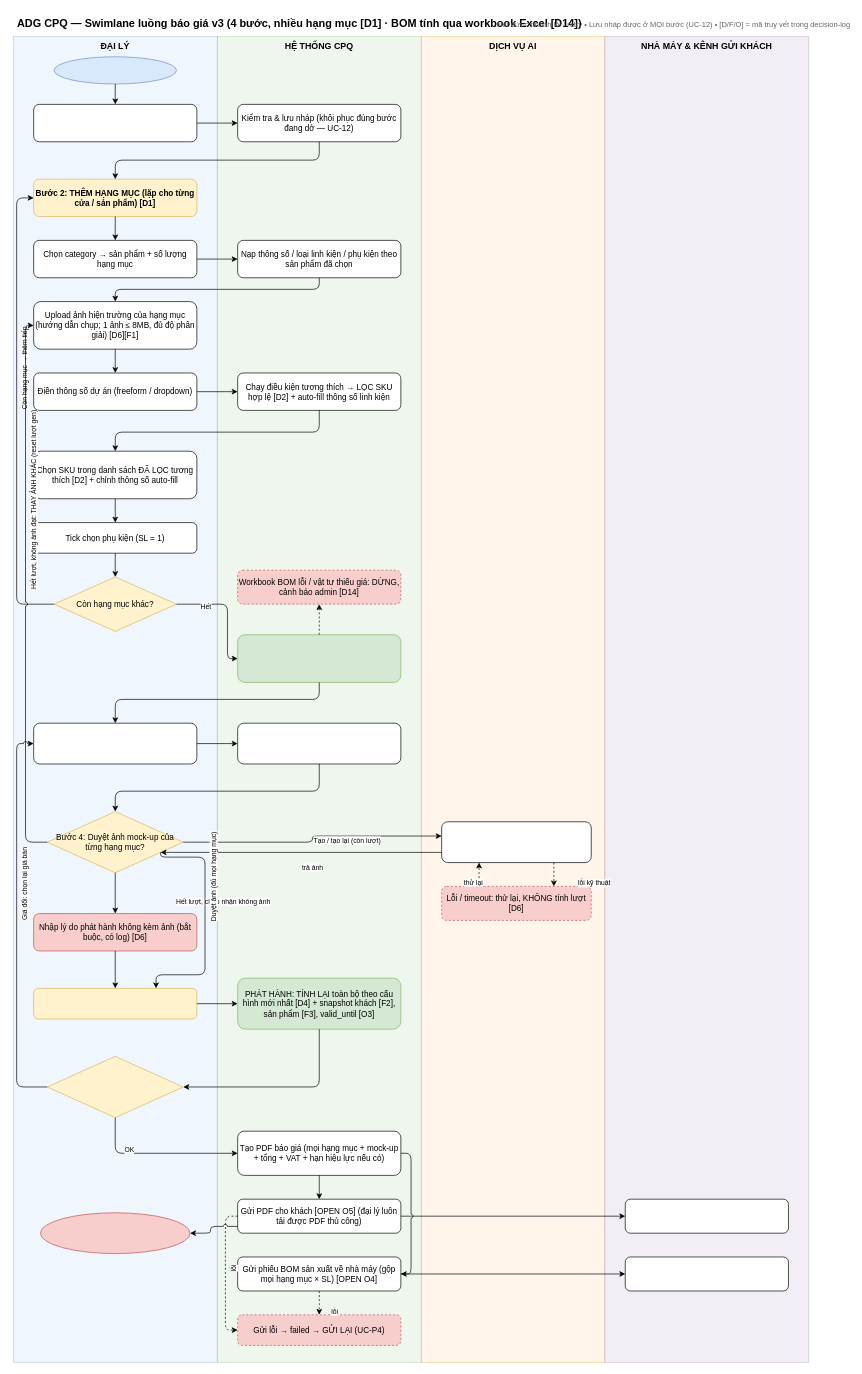
Some shapes in this 862 by 1374 pixel diagram are drawn without their labels. The centre of each missing label's shape, as x and y in pixels:
"Bước 1: Tạo mới / chọn khách cũ theo SĐT (tên, SĐT, địa chỉ)" belongs at (x=115, y=123).
"Bước 3: Chọn giá bán TỪNG hạng mục trong range min–max [D3][D5]" belongs at (x=115, y=743).
"Bước 3: Tính BOM từng hạng mục → cost_material + gross → GIÁ NHẬP [ẩn]" belongs at (x=319, y=658).
"Bấm PHÁT HÀNH báo giá" belongs at (x=115, y=1003).
"Bắt đầu báo giá" belongs at (x=114, y=70).
"Giá đổi so với nháp? → xác nhận lại [D4]" belongs at (x=115, y=1087).
"Khách nhận báo giá [OPEN O5: kênh]" belongs at (x=706, y=1215).
"Kết thúc — status = submitted. GIÁ ĐÓNG BĂNG VĨNH VIỄN [D4]" belongs at (x=115, y=1233).
"Nhà máy nhận & xử lý BOM [OPEN O4: quy trình]" belongs at (x=706, y=1273).
"Sinh mock-up: ảnh hiện trường hạng mục + thumbnail sản phẩm" belongs at (x=516, y=842).
"Tính line_total, subtotal, VAT chung [D7], tổng" belongs at (x=319, y=743).
